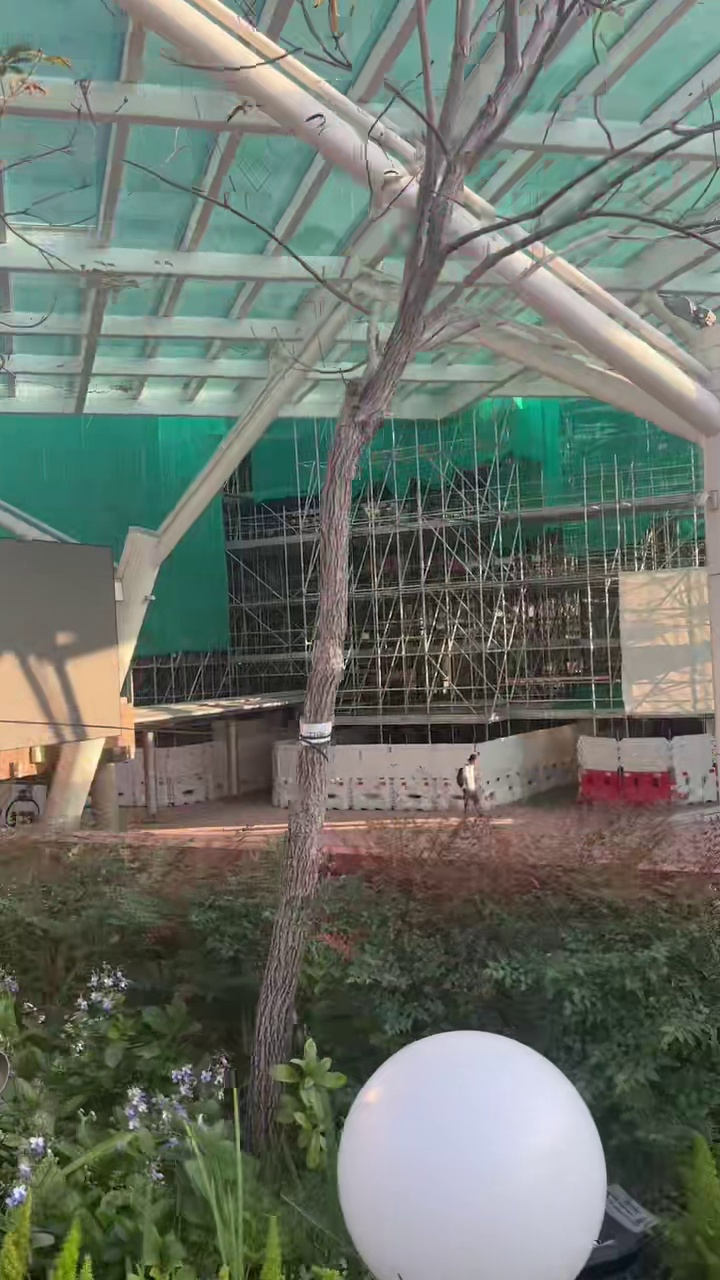Tabebuia chrysantha: (248, 0, 694, 1149)
